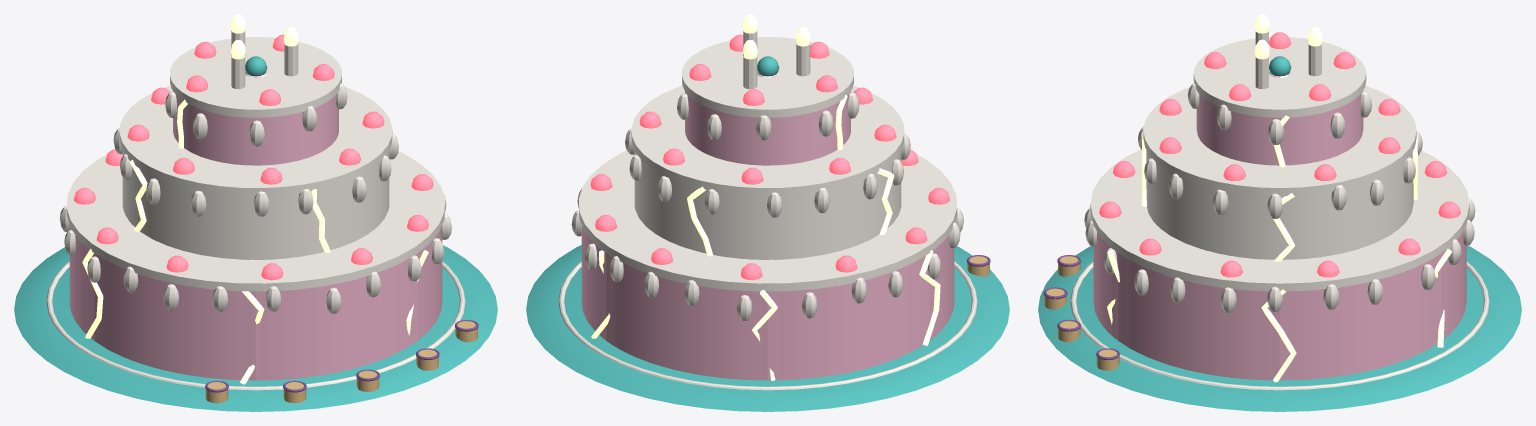
File: ESC_CandyForest.fbx
The picture shows the model from 3 angles, left to right: view 1: azimuth 30°, elevation 25°; view 2: azimuth 150°, elevation 25°; view 3: azimuth 270°, elevation 25°; orthographic projection.
Visible parts, largest first — view 1: Cake_Intact, Body, Cake_Shard_04, Cake_Shard_05, Cake_Shard_09, Cake_Cracks, Cake_Shard_06, Cake_Shard_03, Cake_Shard_10; view 2: Cake_Intact, Body, Cake_Shard_03, Cake_Shard_02, Cake_Cracks, Cake_Shard_08, Cake_Shard_01, Cake_Shard_04, Cake_Shard_07; view 3: Cake_Intact, Body, Cake_Shard_01, Cake_Shard_06, Cake_Cracks, Cake_Shard_07, Cake_Shard_10, Cake_Shard_05, Cake_Shard_02.
Boxes of the visible parts, <box> form: Cake_Intact: <box>59,14,451,380</box>; Body: <box>14,245,497,411</box>; Cake_Shard_04: <box>94,253,255,380</box>; Cake_Shard_05: <box>256,253,417,380</box>; Cake_Shard_09: <box>154,177,300,259</box>; Cake_Cracks: <box>82,99,428,384</box>; Cake_Shard_06: <box>417,228,442,340</box>; Cake_Shard_03: <box>70,228,94,340</box>; Cake_Shard_10: <box>342,151,389,246</box>; Cake_Intact: <box>571,14,963,380</box>; Body: <box>526,245,1009,411</box>; Cake_Shard_03: <box>768,255,929,380</box>; Cake_Shard_02: <box>606,253,767,380</box>; Cake_Cracks: <box>591,94,940,380</box>; Cake_Shard_08: <box>723,184,869,259</box>; Cake_Shard_01: <box>581,226,606,340</box>; Cake_Shard_04: <box>929,235,953,340</box>; Cake_Shard_07: <box>634,151,681,246</box>; Cake_Intact: <box>1084,14,1475,379</box>; Body: <box>1038,245,1521,411</box>; Cake_Shard_01: <box>1280,253,1441,380</box>; Cake_Shard_06: <box>1118,253,1279,380</box>; Cake_Cracks: <box>1107,115,1452,382</box>; Cake_Shard_07: <box>1303,154,1411,258</box>; Cake_Shard_10: <box>1148,154,1256,258</box>; Cake_Shard_05: <box>1093,232,1118,340</box>; Cake_Shard_02: <box>1441,232,1466,334</box>.
Bounding box in the file's own units: 19.2 × 15.73 × 19.2.
